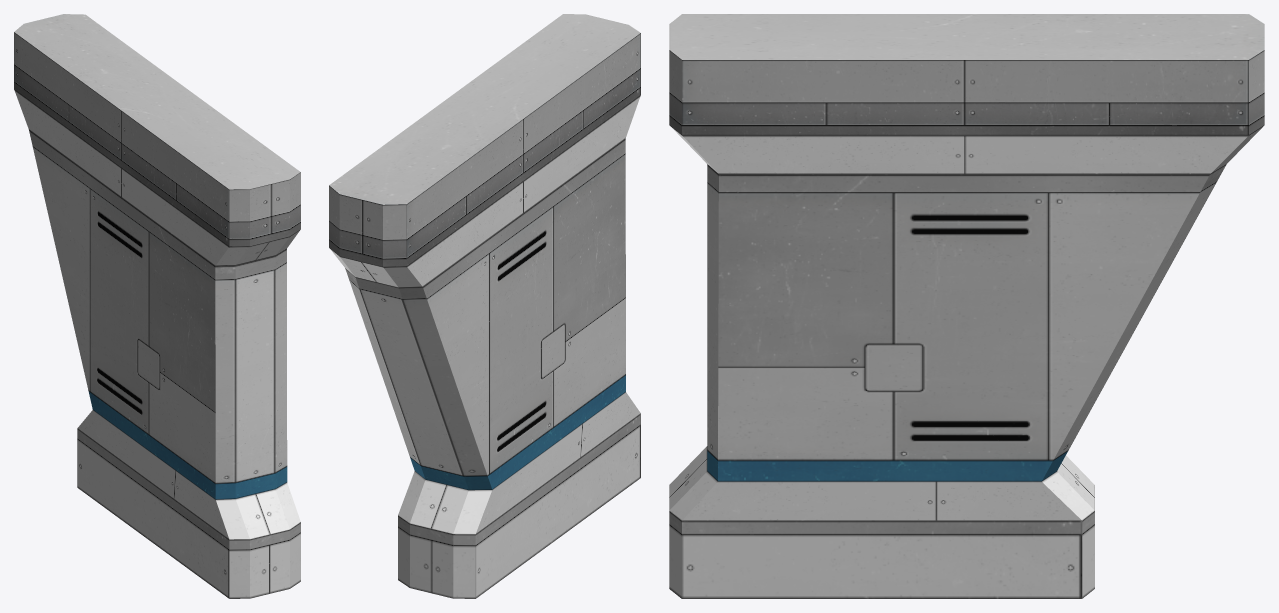
Rendered from Column_04.FBX.
The picture shows the model from 3 angles, left to right: view 1: azimuth 30°, elevation 25°; view 2: azimuth 150°, elevation 25°; view 3: azimuth 270°, elevation 25°; orthographic projection. The views are drawn at different scales.
Parts seen in each view (by area): view 1: Column_04; view 2: Column_04; view 3: Column_04.
Boxes of the visible parts, left/top/right/bottom form: Column_04: left=14, top=14, right=300, bottom=598; Column_04: left=329, top=14, right=640, bottom=598; Column_04: left=669, top=14, right=1264, bottom=598.
Size of the model in its own units: 25.59 by 140 by 140.
